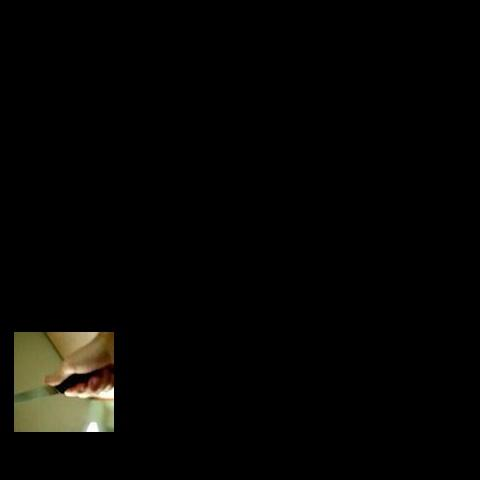knife: (14, 370, 103, 404)
